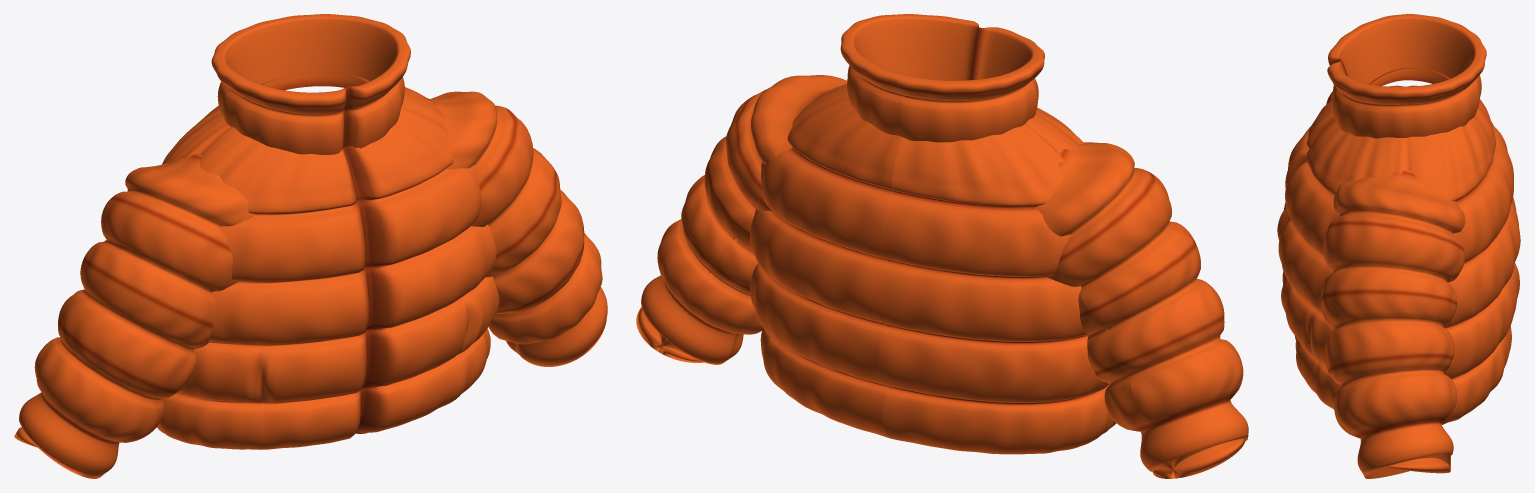
File: puffer-jacket.glb
3 views of the same model, side by side, from view 1: azimuth 30°, elevation 25°; view 2: azimuth 150°, elevation 25°; view 3: azimuth 270°, elevation 25° (orthographic). The views are drawn at different scales.
Visible parts, largest first — view 1: PufferJacket_Hero; view 2: PufferJacket_Hero; view 3: PufferJacket_Hero.
Boxes of the visible parts, x1,y1,x2,y2 form: PufferJacket_Hero: (14, 14, 607, 478); PufferJacket_Hero: (636, 14, 1248, 478); PufferJacket_Hero: (1277, 14, 1520, 478).
Size of the model in its own units: 1.6 by 0.9569 by 0.643.
1 material, 1 textured.
